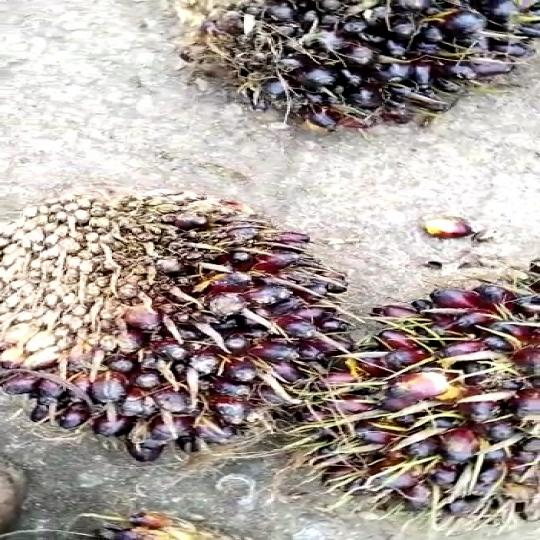kurang masak: (0, 162, 342, 482), (301, 248, 540, 524), (173, 0, 540, 141)
